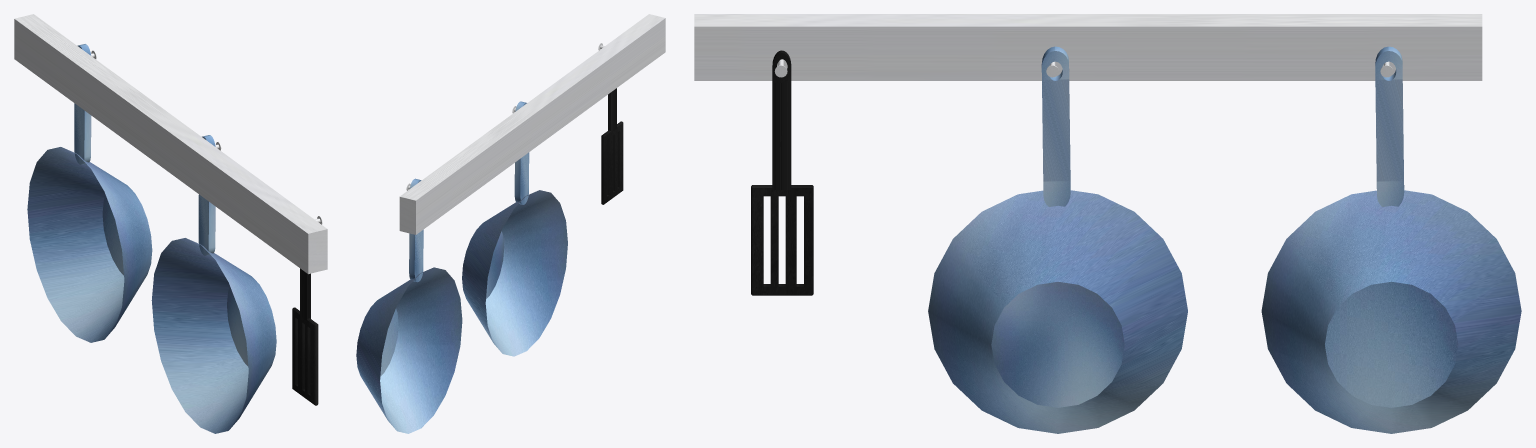
Rendered from Sartenes.obj.
3 renders of one model, left to right at view 1: azimuth 30°, elevation 25°; view 2: azimuth 150°, elevation 25°; view 3: azimuth 270°, elevation 25°, orthographic. The views are drawn at different scales.
Visible parts, largest first — view 1: Sartenes:pCube15; view 2: Sartenes:pCube15; view 3: Sartenes:pCube15.
Part boxes in pixels (x1=…): Sartenes:pCube15: x1=14, y1=14, x2=327, y2=433; Sartenes:pCube15: x1=356, y1=14, x2=665, y2=433; Sartenes:pCube15: x1=694, y1=14, x2=1521, y2=433.
Bounding box in the file's own units: 2.05 × 7.42 × 13.84.
3 materials, 3 textured.
